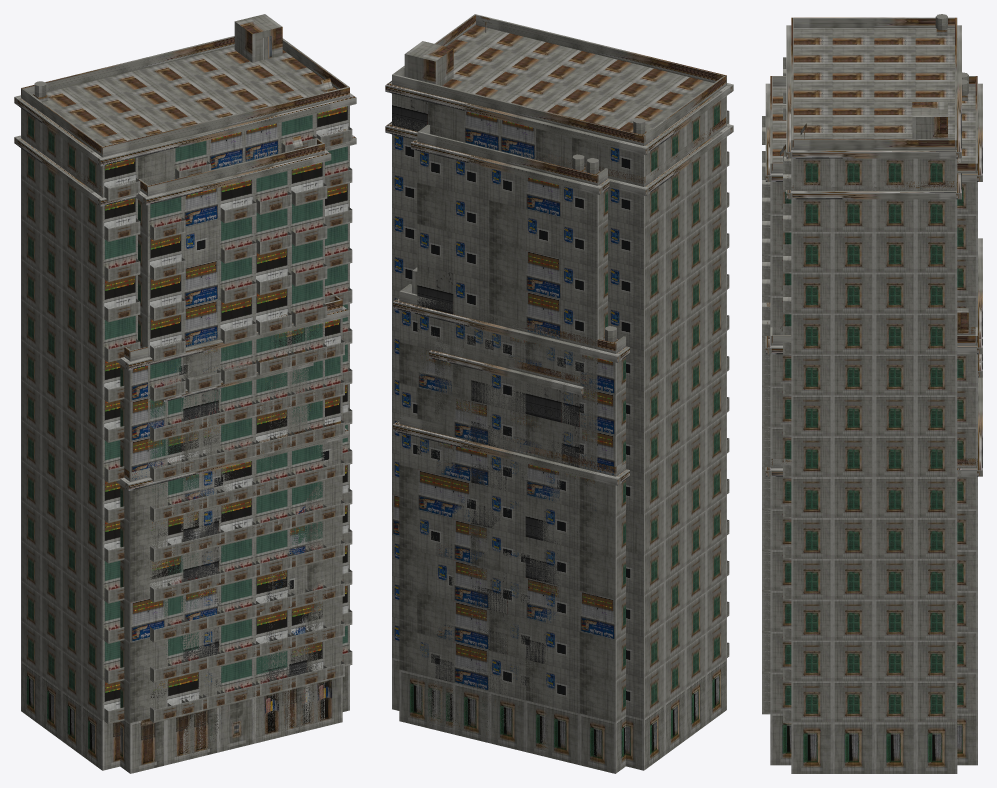
The picture shows the model from 3 angles, left to right: view 1: azimuth 30°, elevation 25°; view 2: azimuth 150°, elevation 25°; view 3: azimuth 270°, elevation 25°; orthographic projection.
Visible parts, largest first — view 1: Khedivial_7x4_f14_v0, Khedivial_5x5_f13_v0, Khedivial_6x5_f6_v1, Khedivial_3x5_f8_v0, Khedivial_6x5_f9_v1, Khedivial_2x5_f8_v1, Khedivial_5x5_f9_v1, Khedivial_4x5_f8_v1, Khedivial_7x4_f13_v0; view 2: Khedivial_7x4_f14_v0, Khedivial_5x5_f13_v0, Khedivial_6x5_f6_v1, Khedivial_3x5_f8_v0, Khedivial_6x5_f9_v1, Khedivial_4x5_f8_v1, Khedivial_7x4_f13_v0, Khedivial_2x5_f8_v1, Khedivial_5x5_f9_v1; view 3: Khedivial_7x4_f14_v0, Khedivial_6x5_f6_v1, Khedivial_5x5_f13_v0, Khedivial_6x5_f9_v1, Khedivial_7x4_f13_v0, Khedivial_5x5_f9_v1.
Part boxes in pixels (x1,y1,x2,y2): Khedivial_7x4_f14_v0: (14,14,356,770); Khedivial_5x5_f13_v0: (136,136,331,760); Khedivial_6x5_f6_v1: (117,421,348,773); Khedivial_3x5_f8_v0: (181,354,295,760); Khedivial_6x5_f9_v1: (116,292,348,690); Khedivial_2x5_f8_v1: (201,358,274,709); Khedivial_5x5_f9_v1: (140,309,331,714); Khedivial_4x5_f8_v1: (162,349,313,476); Khedivial_7x4_f13_v0: (14,129,356,206); Khedivial_7x4_f14_v0: (385,14,733,770); Khedivial_5x5_f13_v0: (411,124,610,768); Khedivial_6x5_f6_v1: (393,414,629,773); Khedivial_3x5_f8_v0: (447,346,564,760); Khedivial_6x5_f9_v1: (393,267,629,475); Khedivial_4x5_f8_v1: (429,341,583,467); Khedivial_7x4_f13_v0: (385,117,733,195); Khedivial_2x5_f8_v1: (465,351,544,457); Khedivial_5x5_f9_v1: (411,296,604,358); Khedivial_7x4_f14_v0: (783,14,961,773); Khedivial_6x5_f6_v1: (765,377,982,765); Khedivial_5x5_f13_v0: (762,72,982,700); Khedivial_6x5_f9_v1: (762,238,982,714); Khedivial_7x4_f13_v0: (786,158,961,199); Khedivial_5x5_f9_v1: (765,247,982,338).
Bounding box in the file's own units: 25.3 × 60.7 × 18.6.
1 material, 1 textured.
